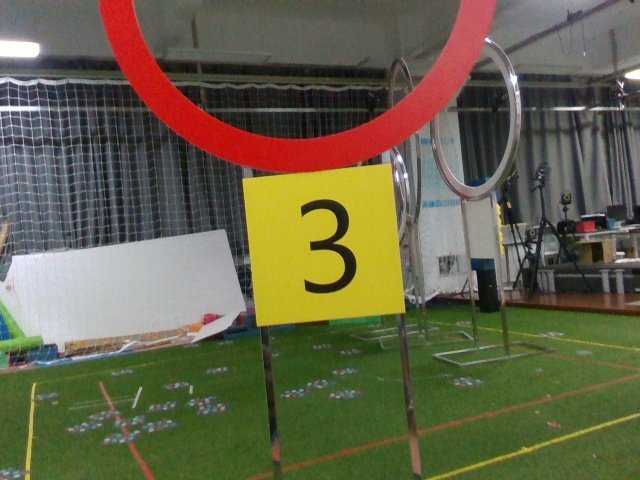target: (257, 176, 393, 311)
